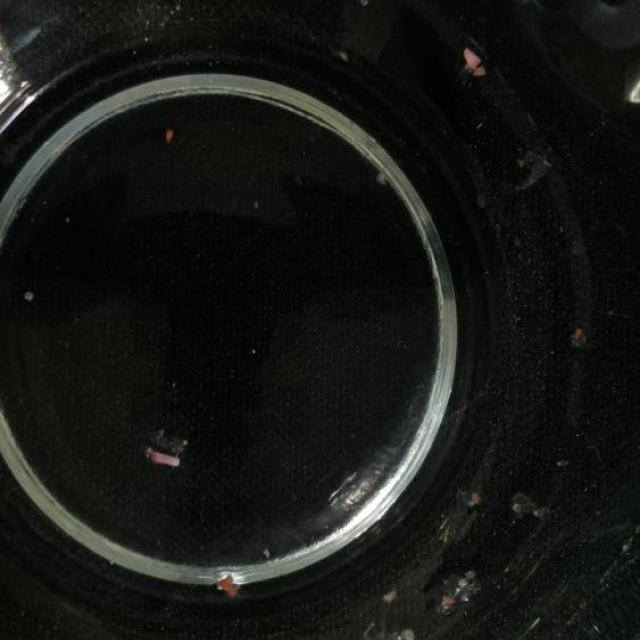fiber: (442, 574, 487, 620), (147, 423, 190, 468), (459, 43, 495, 83), (510, 494, 550, 528), (621, 71, 640, 108), (216, 574, 242, 600), (571, 324, 591, 354), (22, 288, 40, 306), (164, 125, 177, 144)
